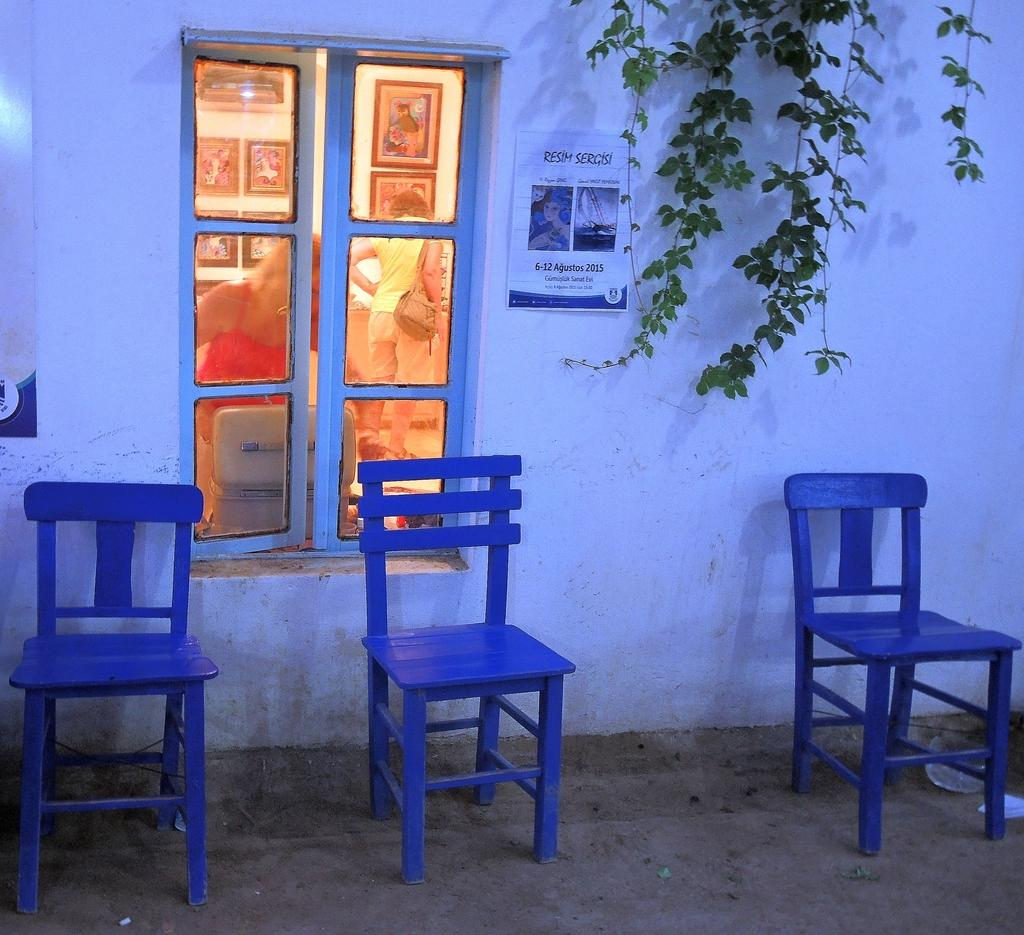Chair: (356, 450, 582, 885), (7, 482, 216, 919), (776, 441, 1003, 843)
